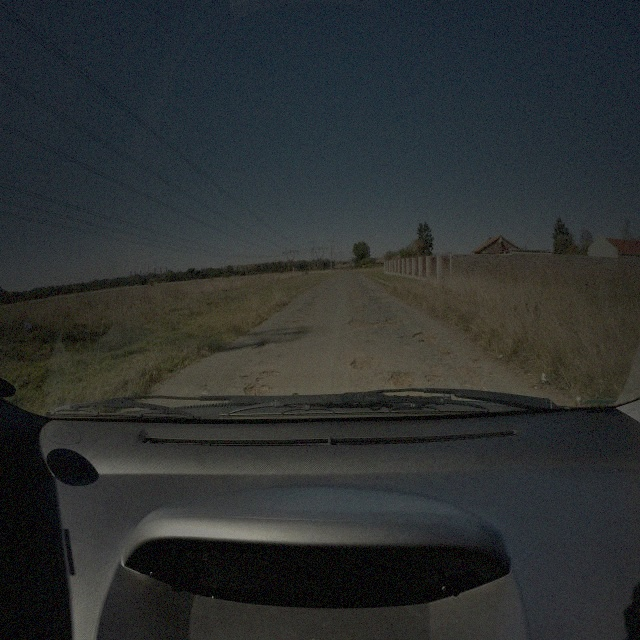pothole: (461, 366, 486, 393), (386, 369, 415, 391), (350, 356, 380, 371), (411, 328, 438, 342), (374, 316, 402, 329), (244, 385, 272, 396), (347, 317, 371, 329), (425, 371, 443, 383), (439, 346, 454, 358), (262, 371, 280, 378), (293, 317, 307, 326), (356, 304, 366, 314), (305, 311, 317, 316), (309, 301, 315, 306)
